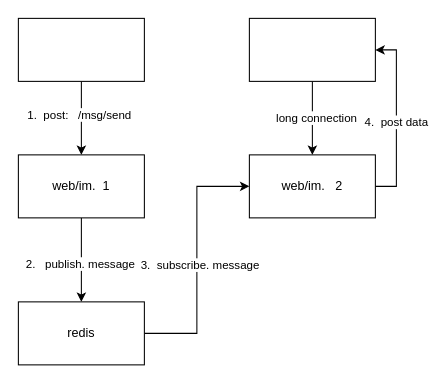
Image size: 446x383. Some labels were removed from this diagram. The shapes that lost their labels are listed below. From the top down, each one's centre as x and y in pixels, then its label:
the point at 80,49: clientA
the point at 311,49: clientB
